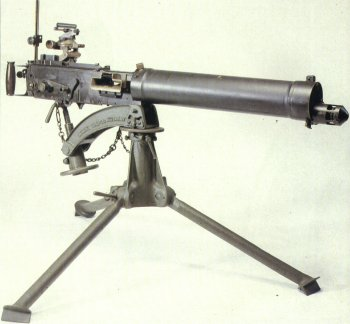rifle: (6, 10, 336, 308)
